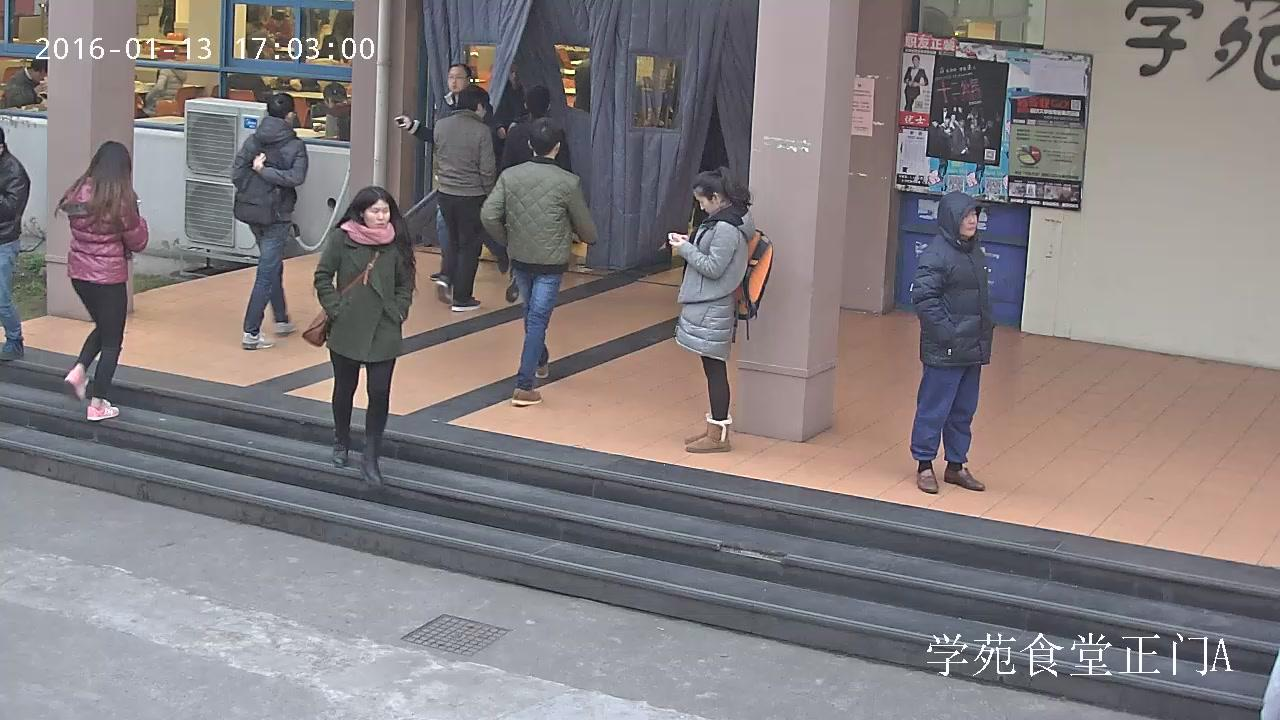person: (301, 185, 415, 488), (479, 117, 598, 405), (666, 166, 773, 453), (53, 140, 148, 421), (909, 190, 994, 493), (392, 63, 508, 279), (231, 92, 308, 349), (499, 85, 569, 302), (431, 84, 497, 312), (0, 126, 30, 360), (142, 47, 186, 118), (2, 57, 47, 108), (322, 82, 351, 141), (903, 55, 928, 111), (158, 0, 175, 37)
